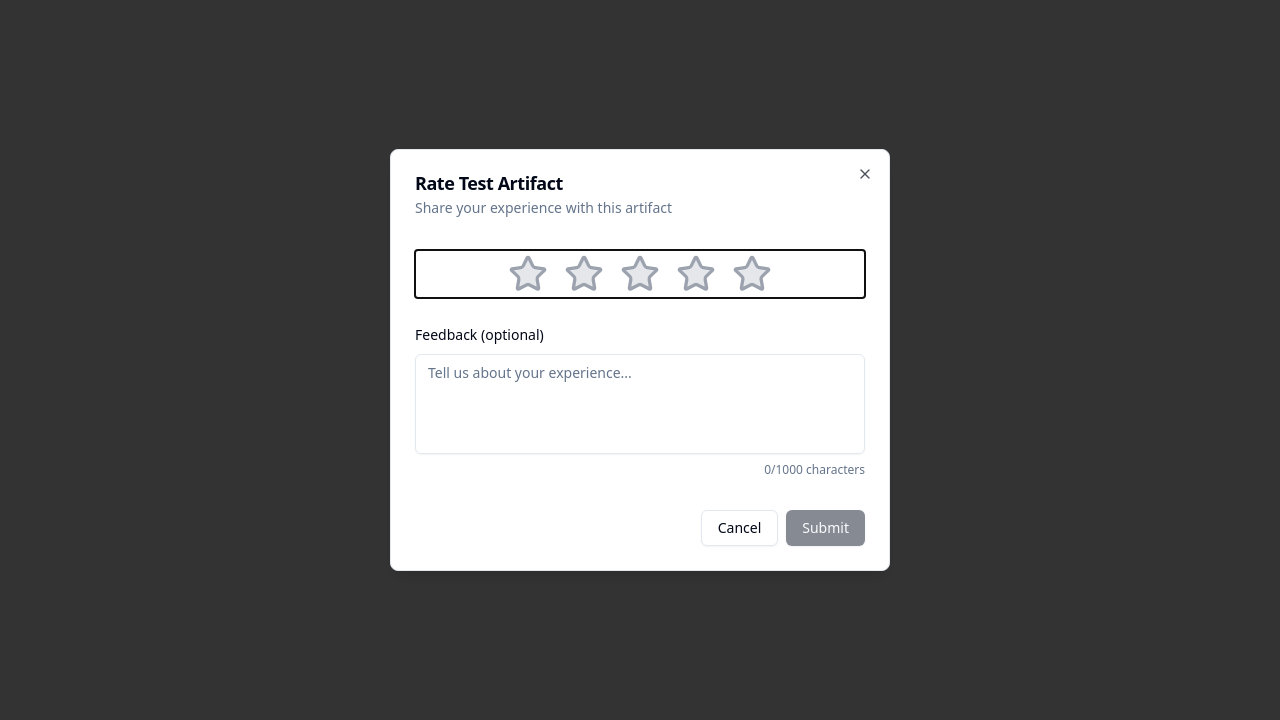
RatingDialog › Star Selection (Mouse) › selects rating when star is clicked
The image size is (1280, 720).
Click the button named "Rate 3 stars".
click(640, 274)  # box [616,250,664,298]
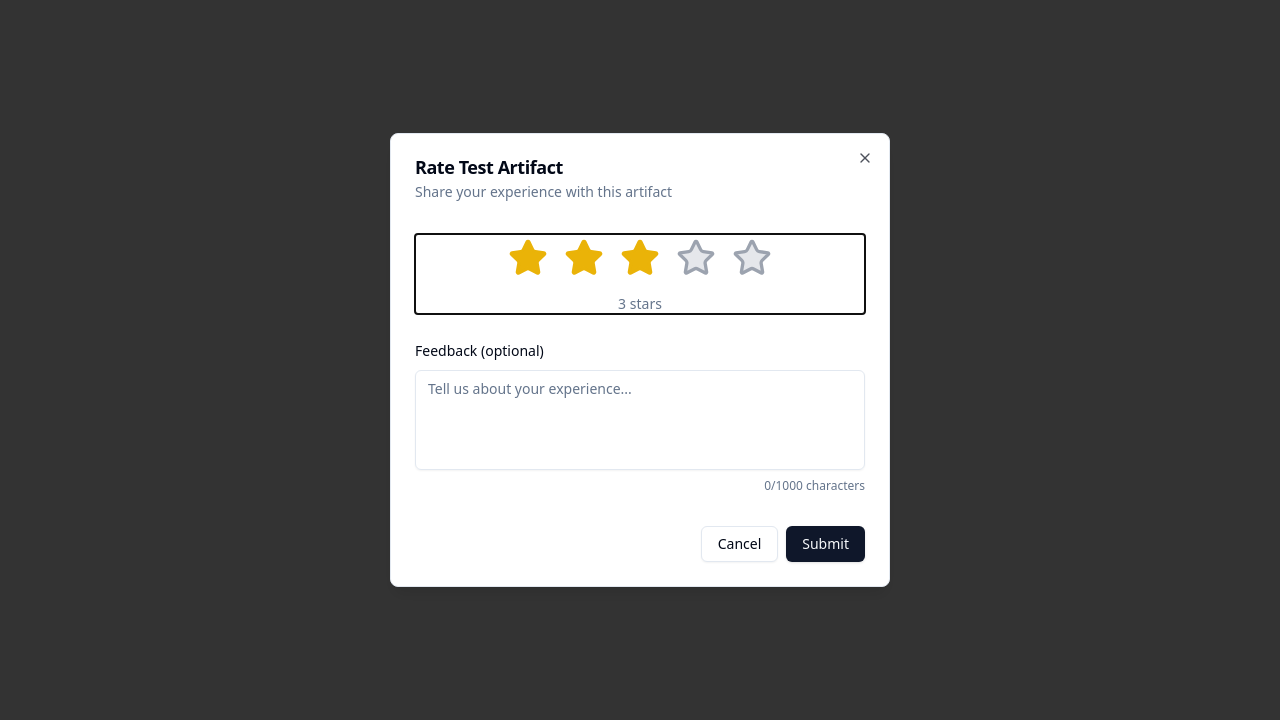
Expected: the text "3 stars" is shown, [618,294,662,314]
